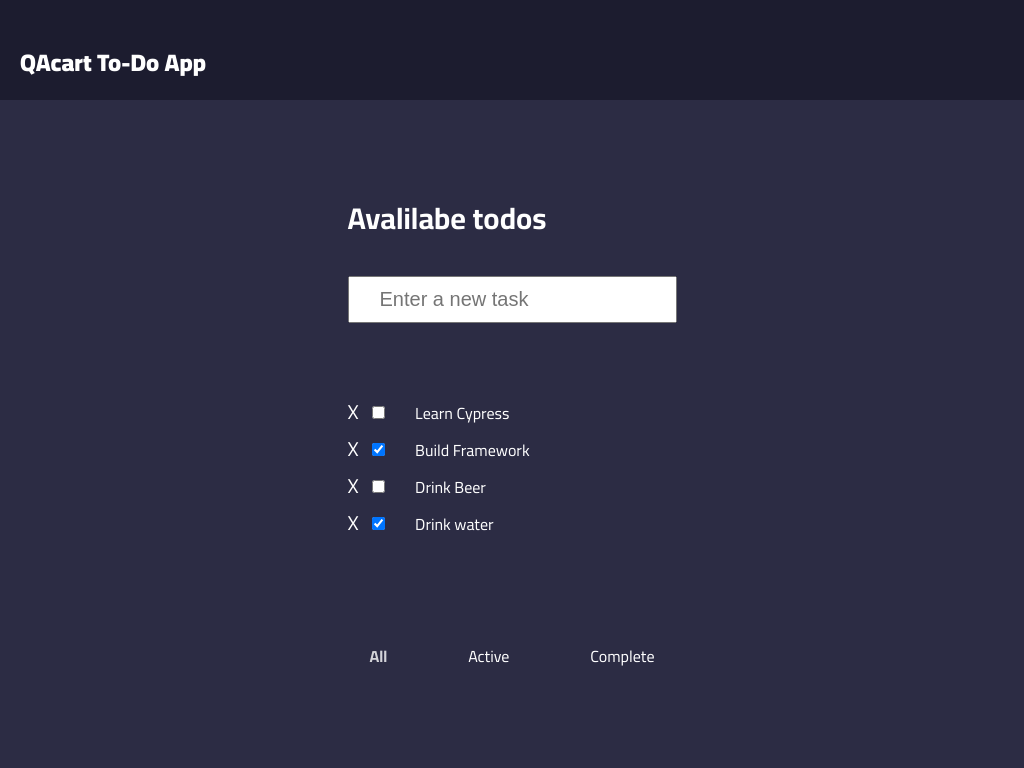
Test: filter functionality test cases using data from API › Should filter the completed Todos correctly
The width and height of the screenshot is (1024, 768).
Click the link "Complete": (622, 656) 588,641 -> 656,671
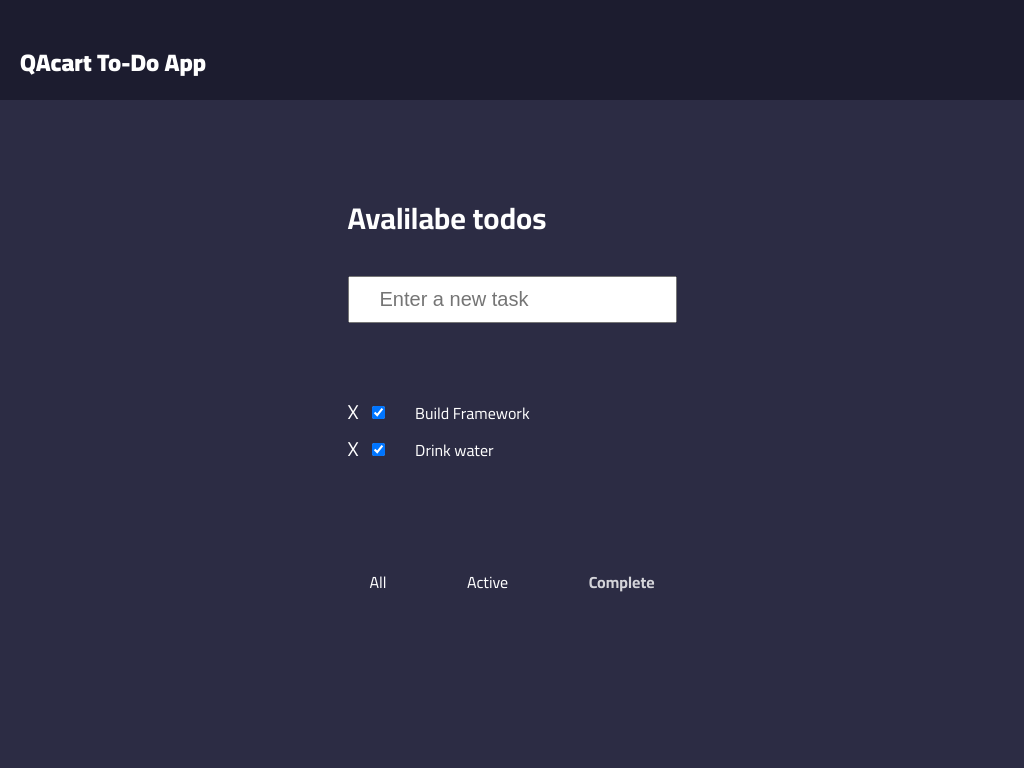
Expected: the checkbox with class "todo-checkbox" next to "Drink water" is checked, 372,443 -> 385,456
Expected: the checkbox with class "todo-checkbox" next to "Build Framework" is checked, 372,406 -> 385,419
